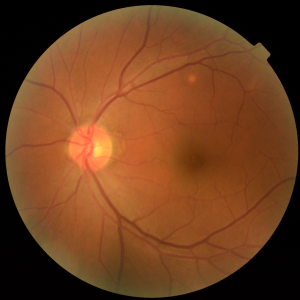retina_disease: (49, 94, 246, 210)
